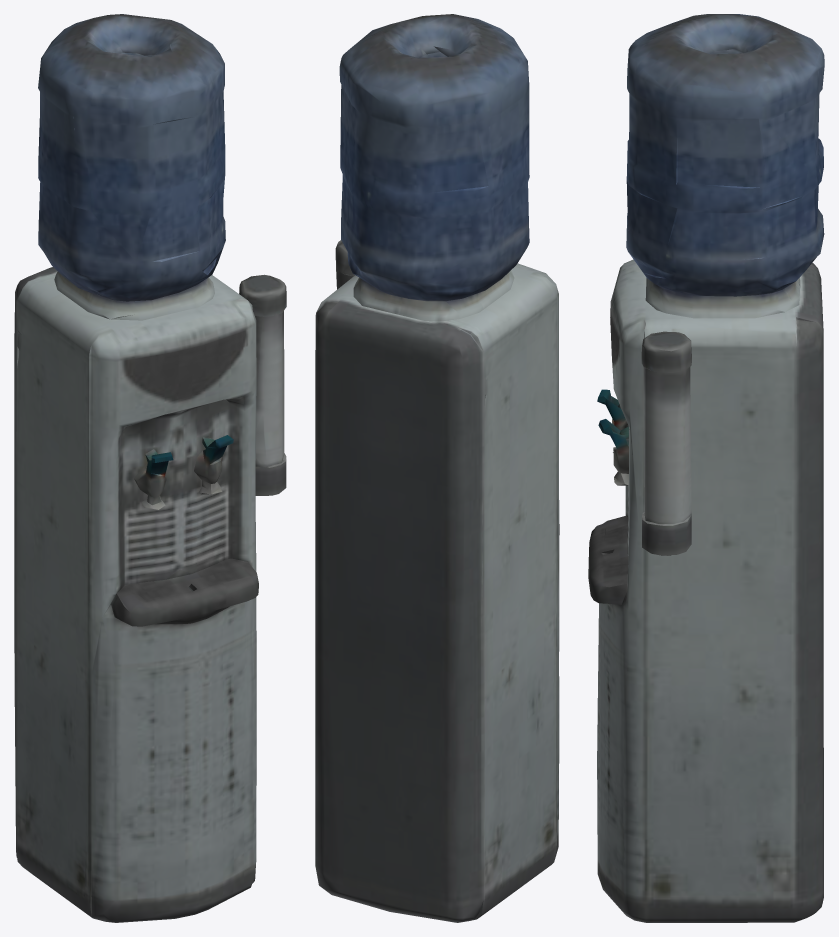
The model's file is p7-water-cooler.glb.
The picture shows the model from 3 angles, left to right: view 1: azimuth 30°, elevation 25°; view 2: azimuth 150°, elevation 25°; view 3: azimuth 270°, elevation 25°; orthographic projection.
Visible parts, largest first — view 1: p7-water-cooler; view 2: p7-water-cooler; view 3: p7-water-cooler.
Boxes of the visible parts, x1,y1,x2,y2 form: p7-water-cooler: [14, 14, 286, 922]; p7-water-cooler: [315, 14, 559, 922]; p7-water-cooler: [588, 14, 824, 922].
Bounding box in the file's own units: 0.3578 × 1.4 × 0.35.
1 material, 1 textured.
